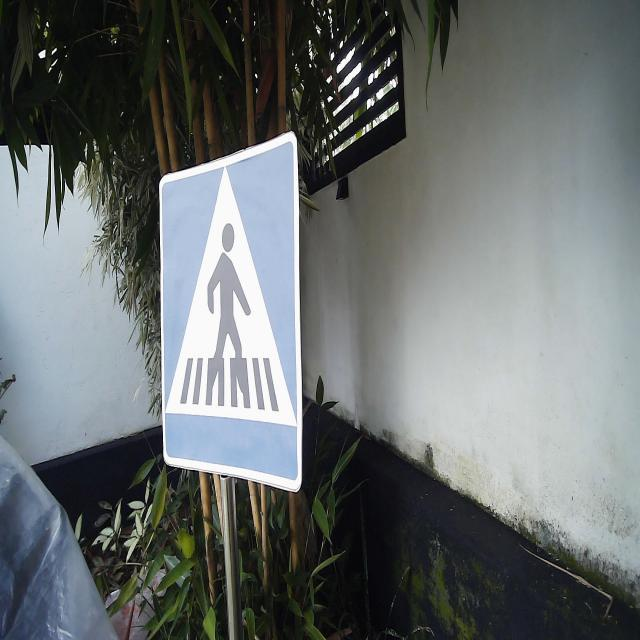crosswalk_sign: (158, 130, 304, 494)
